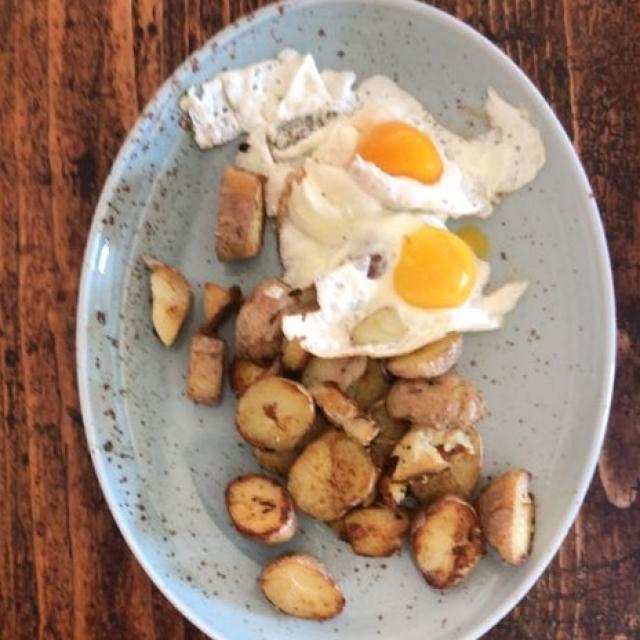egg: (178, 46, 538, 366)
potatoes: (135, 165, 540, 608)
